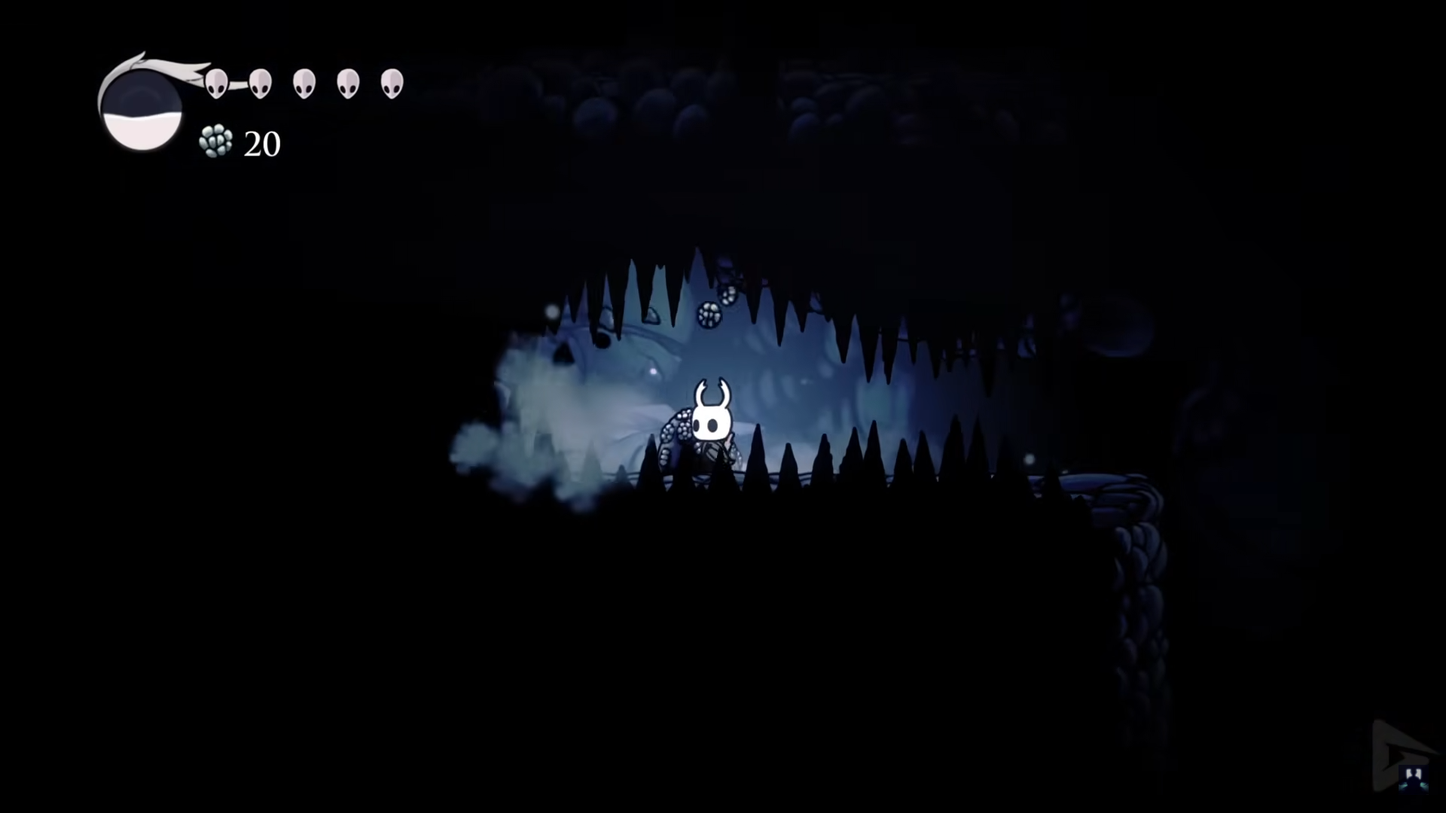HK: (690, 378, 737, 478)
